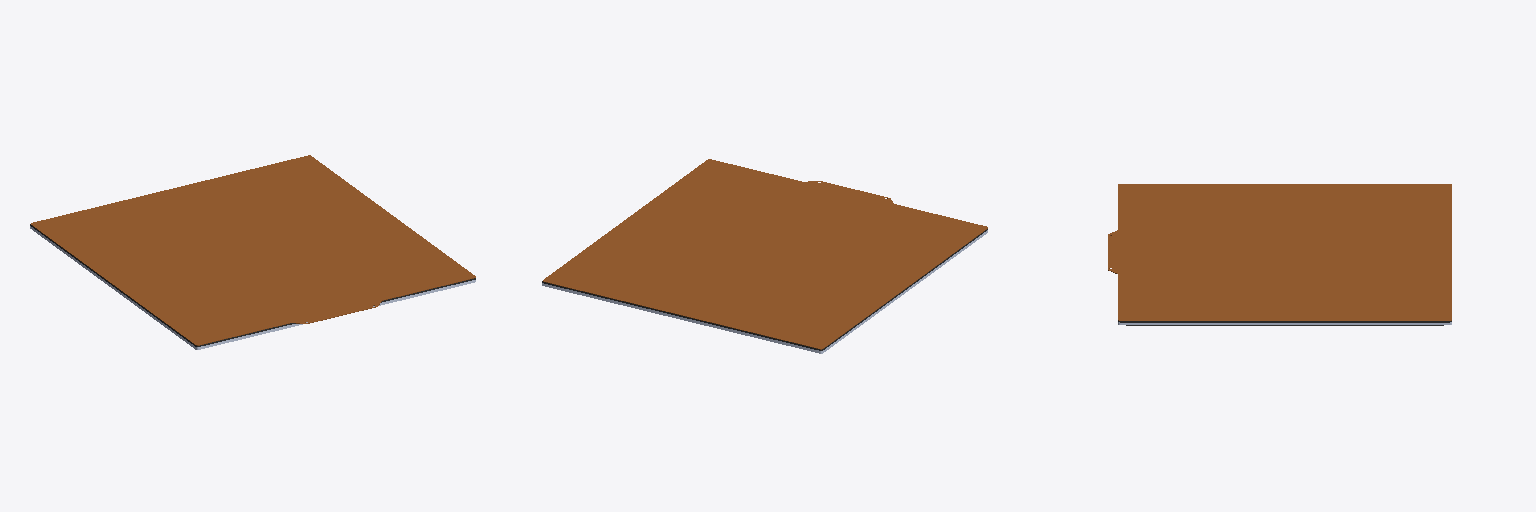
The model's file is print_bed.obj.
3 views of the same model, side by side, from view 1: azimuth 30°, elevation 25°; view 2: azimuth 150°, elevation 25°; view 3: azimuth 270°, elevation 25° (orthographic).
Parts seen in each view (by area): view 1: Volumenkörper3, Volumenkörper1; view 2: Volumenkörper3, Volumenkörper1, Volumenkörper2; view 3: Volumenkörper3, Volumenkörper1, Volumenkörper2.
Part boxes in pixels (left/top/right/bottom): Volumenkörper3: left=31, top=155, right=475, bottom=345; Volumenkörper1: left=30, top=226, right=475, bottom=349; Volumenkörper3: left=543, top=159, right=987, bottom=349; Volumenkörper1: left=542, top=230, right=987, bottom=353; Volumenkörper2: left=542, top=229, right=987, bottom=350; Volumenkörper3: left=1108, top=184, right=1451, bottom=320; Volumenkörper1: left=1118, top=322, right=1451, bottom=325; Volumenkörper2: left=1118, top=321, right=1451, bottom=322.
Bounding box in the file's own units: 310 × 8 × 330.